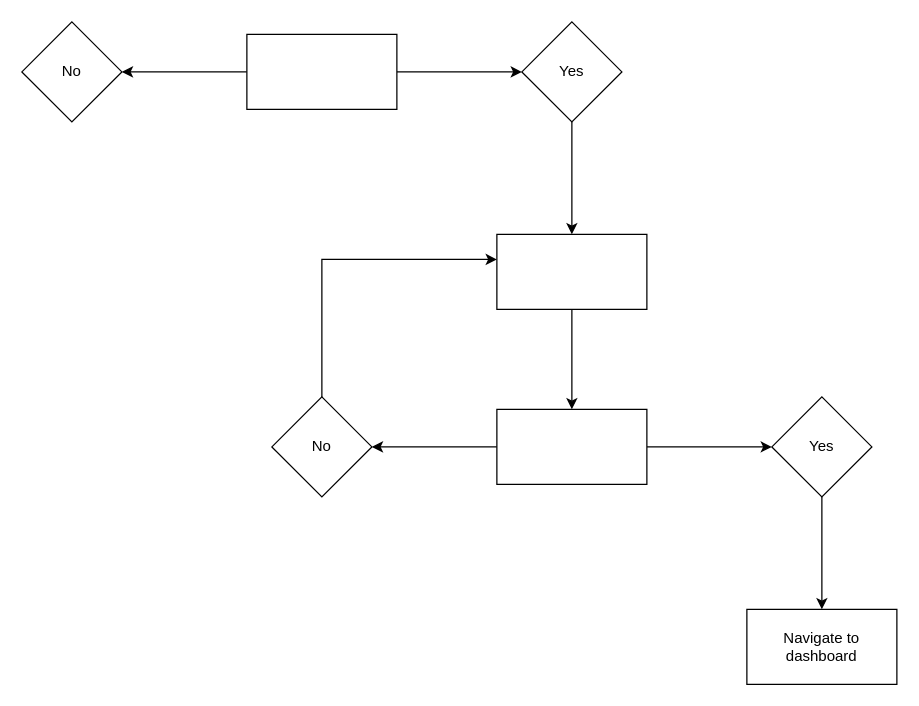
Some shapes in this 919 by 706 pixel diagram are drawn without their labels. Here are the shapes that lost their labels. From the top down, the box of each, then its label:
(246, 33, 397, 109): Enter phone number
(496, 233, 647, 309): Send SMS / Whatsapp
(496, 408, 647, 484): Enter 6 digits OTP
